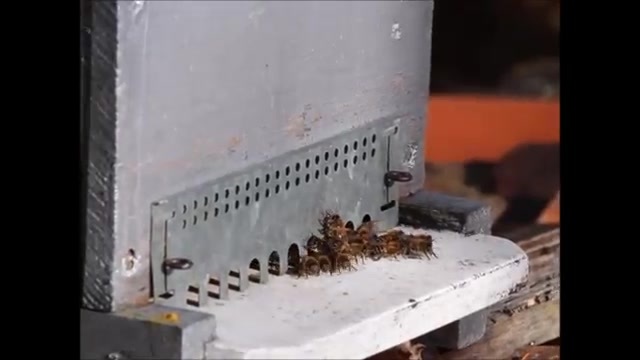bee: (330, 247, 354, 273), (402, 236, 435, 254), (361, 240, 392, 259), (329, 216, 350, 236), (300, 257, 322, 276)
